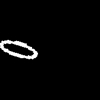chain: (0, 40, 37, 58)
